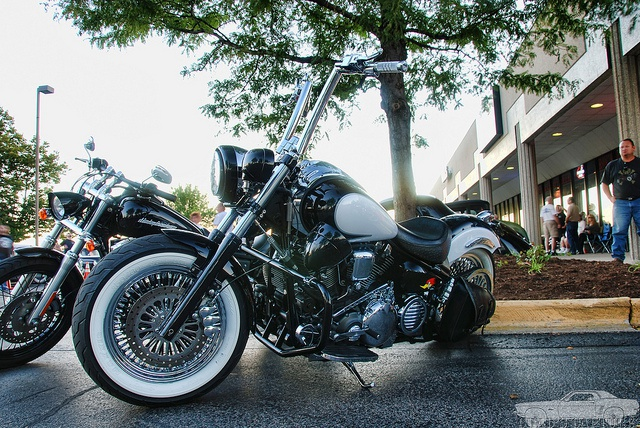non-vehicle: (75, 50, 506, 410), (0, 140, 201, 369)
